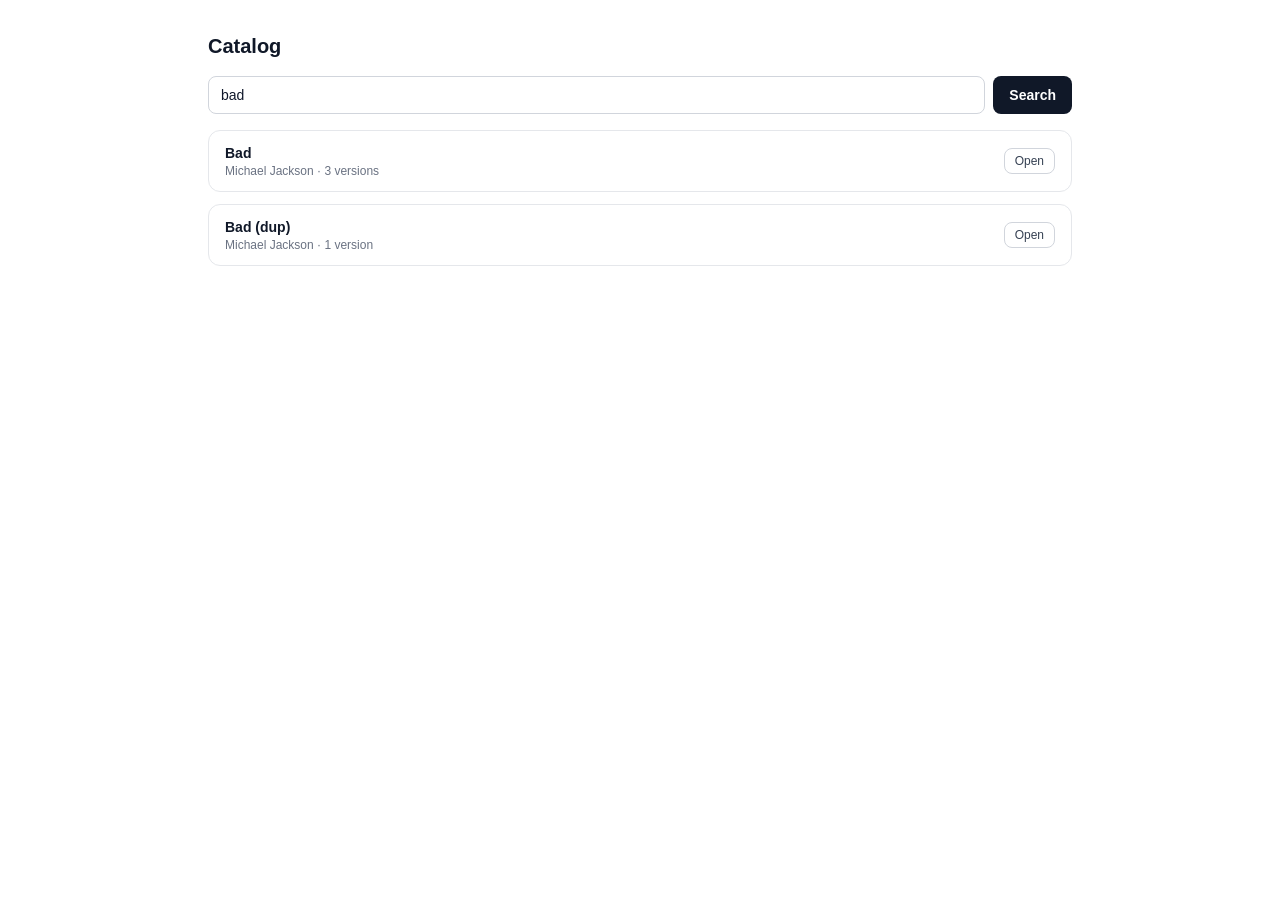
Test: merge versions › confirming merges source into target and refreshes
The image size is (1280, 900).
Click the button "Open" in the row of "versions": (1029, 161) top-left (1004, 148), bottom-right (1055, 174)
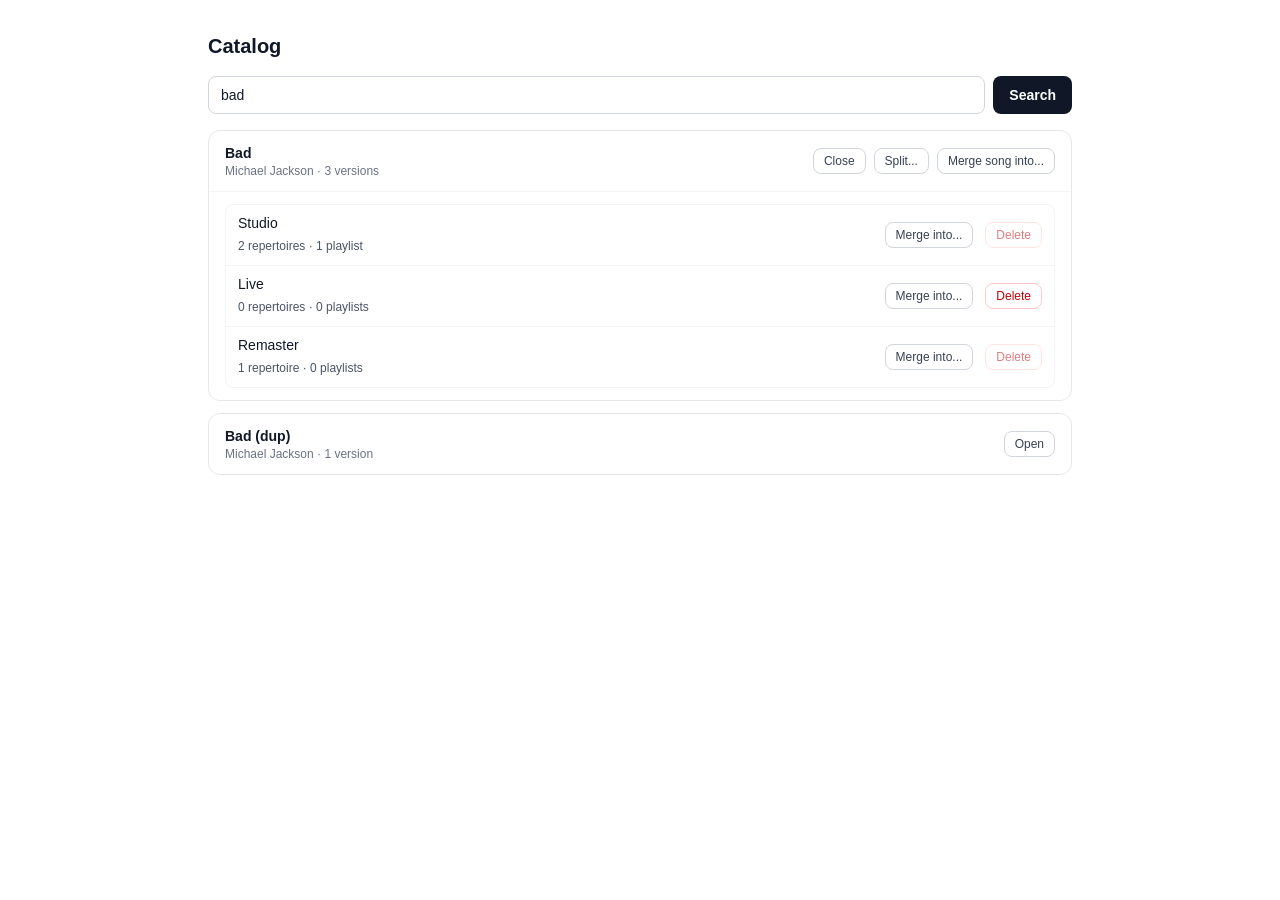
Click the button "Merge into..." in the row of "Studio": (929, 235) top-left (885, 222), bottom-right (973, 248)
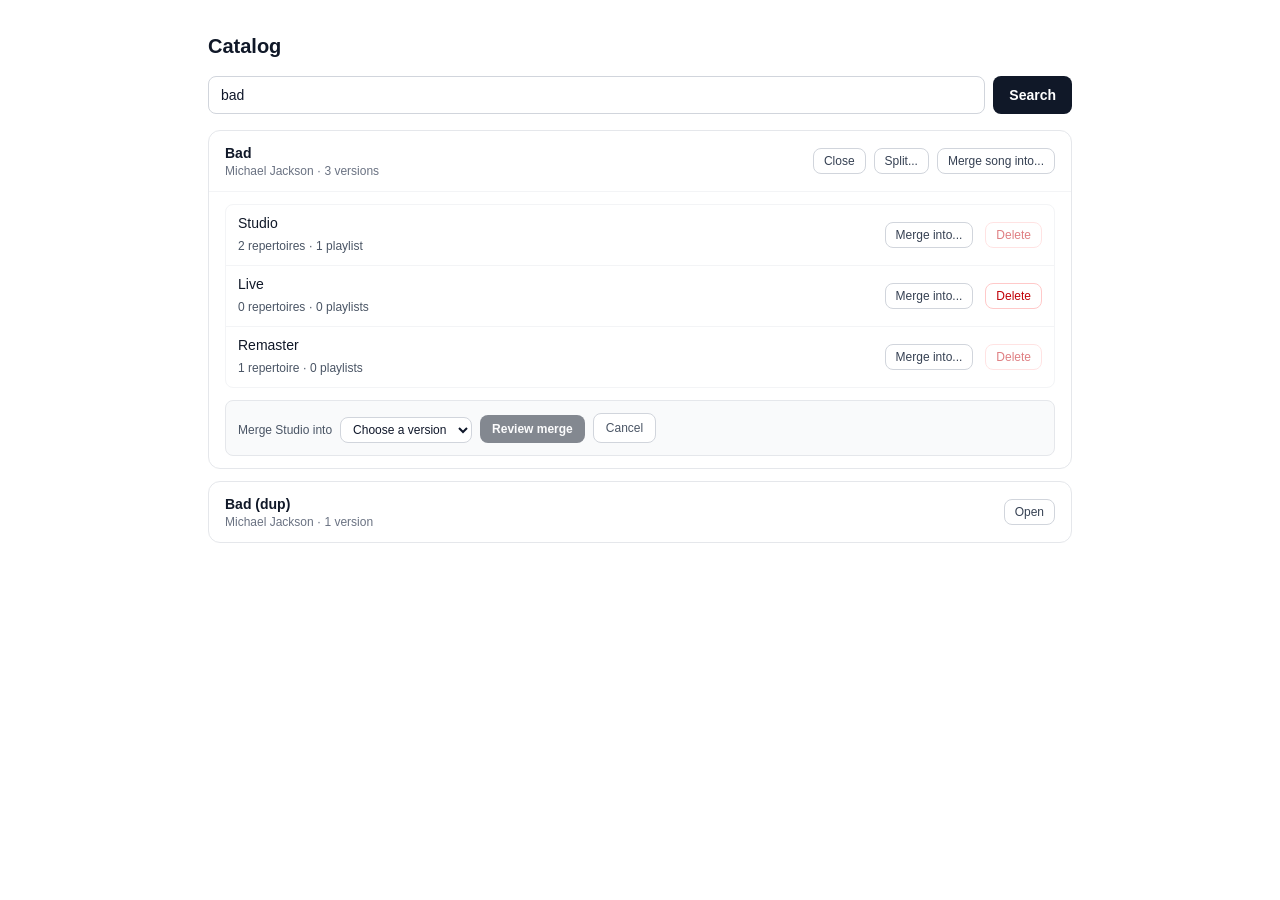
Select "Live" in the dropdown named "Merge target": (406, 430) top-left (340, 417), bottom-right (472, 443)
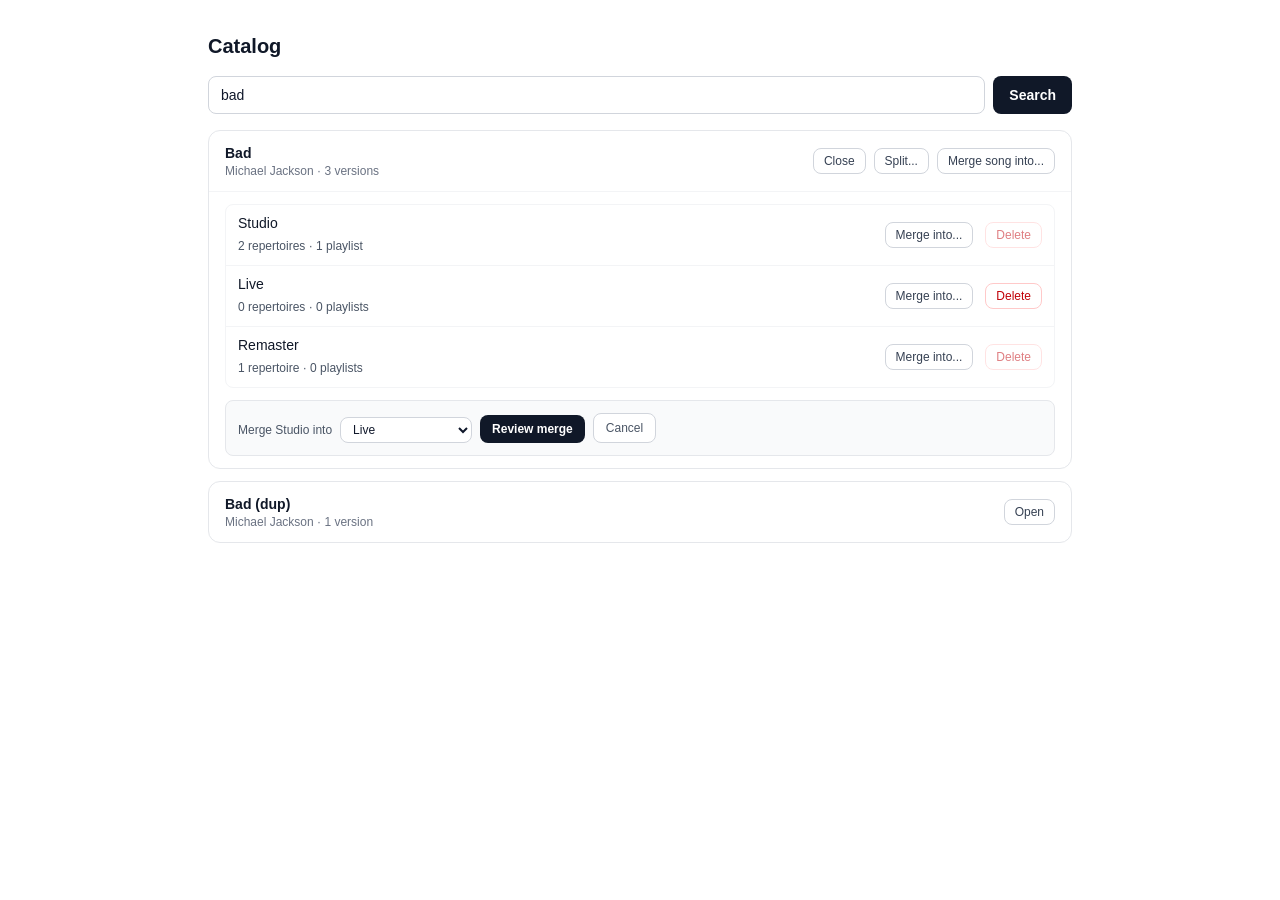
Click the button "Review merge": (532, 429) top-left (480, 415), bottom-right (585, 443)
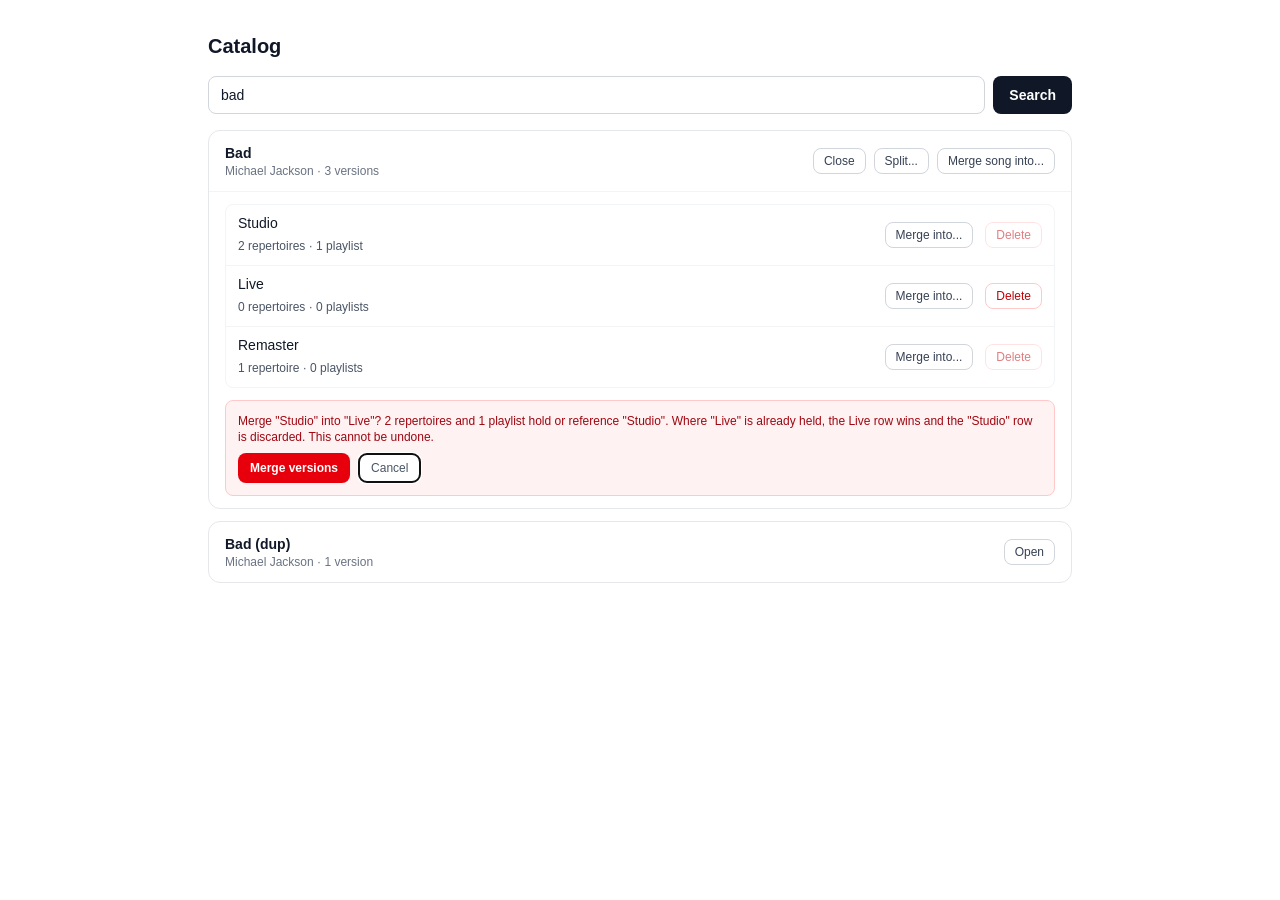
Click the button "Merge versions": (294, 468) top-left (238, 453), bottom-right (350, 483)
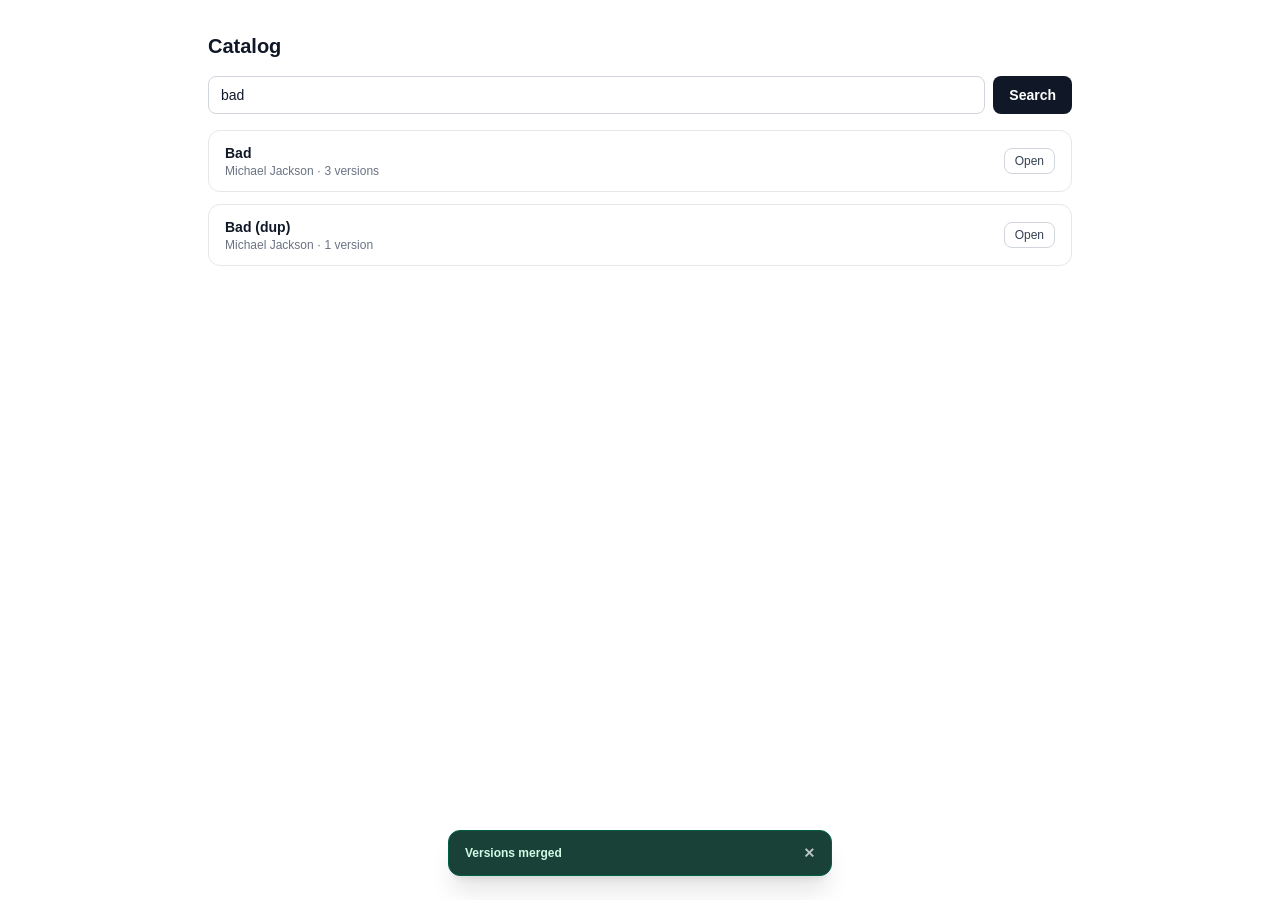
Expected: the text "Versions merged" is shown, top-left (465, 845), bottom-right (562, 861)
